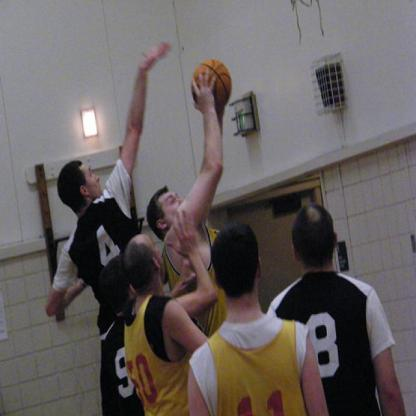basketball: (192, 59, 234, 114)
